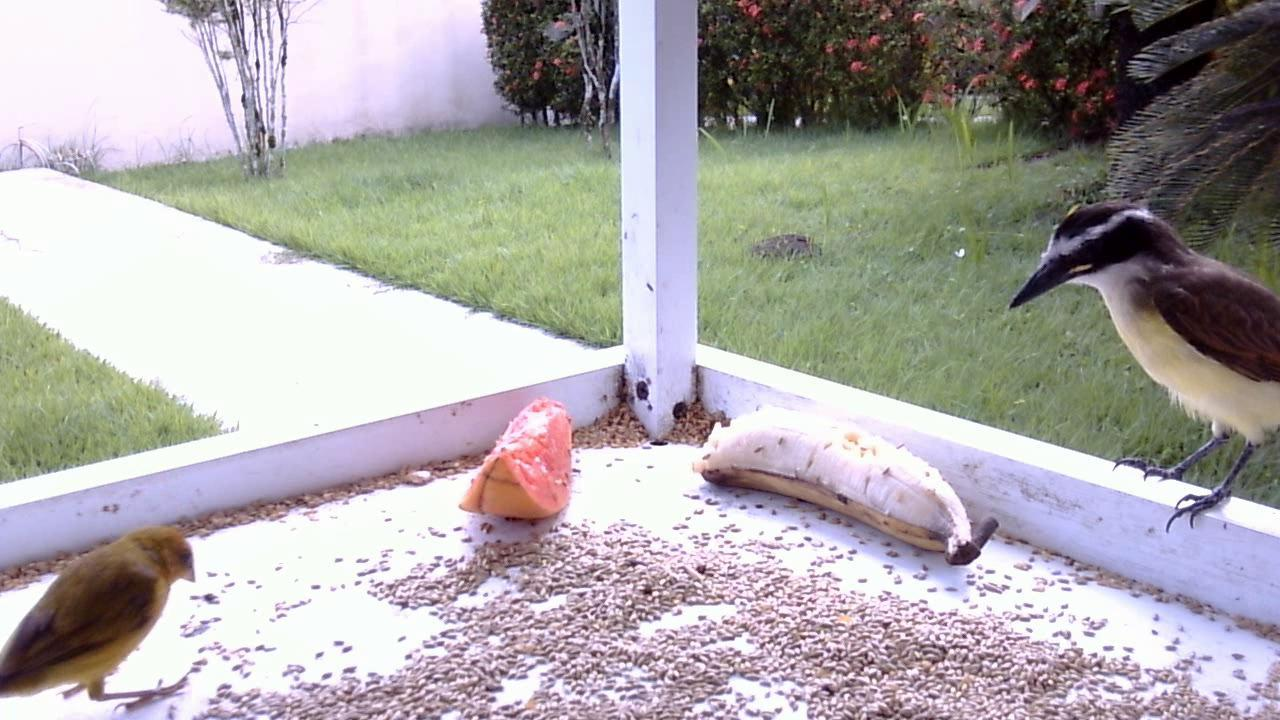bem_te_vi: (1002, 187, 1275, 550)
canario_do_amazonas: (1, 520, 204, 711)
